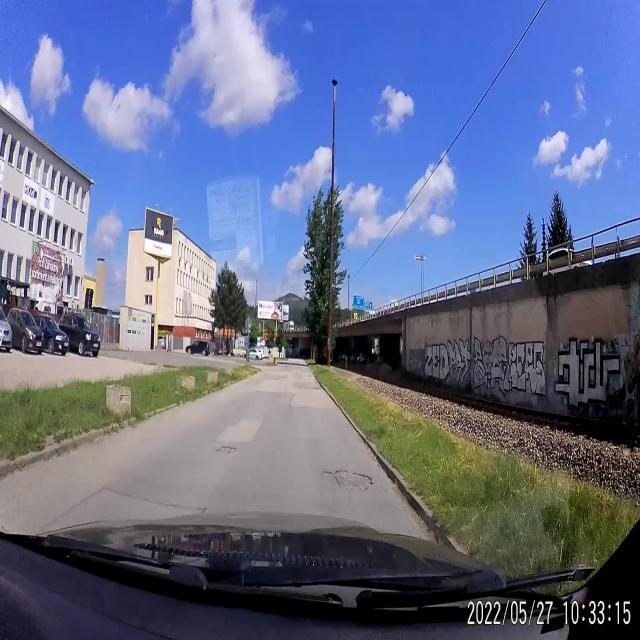Pothole: (322, 461, 376, 499), (214, 440, 236, 460)
